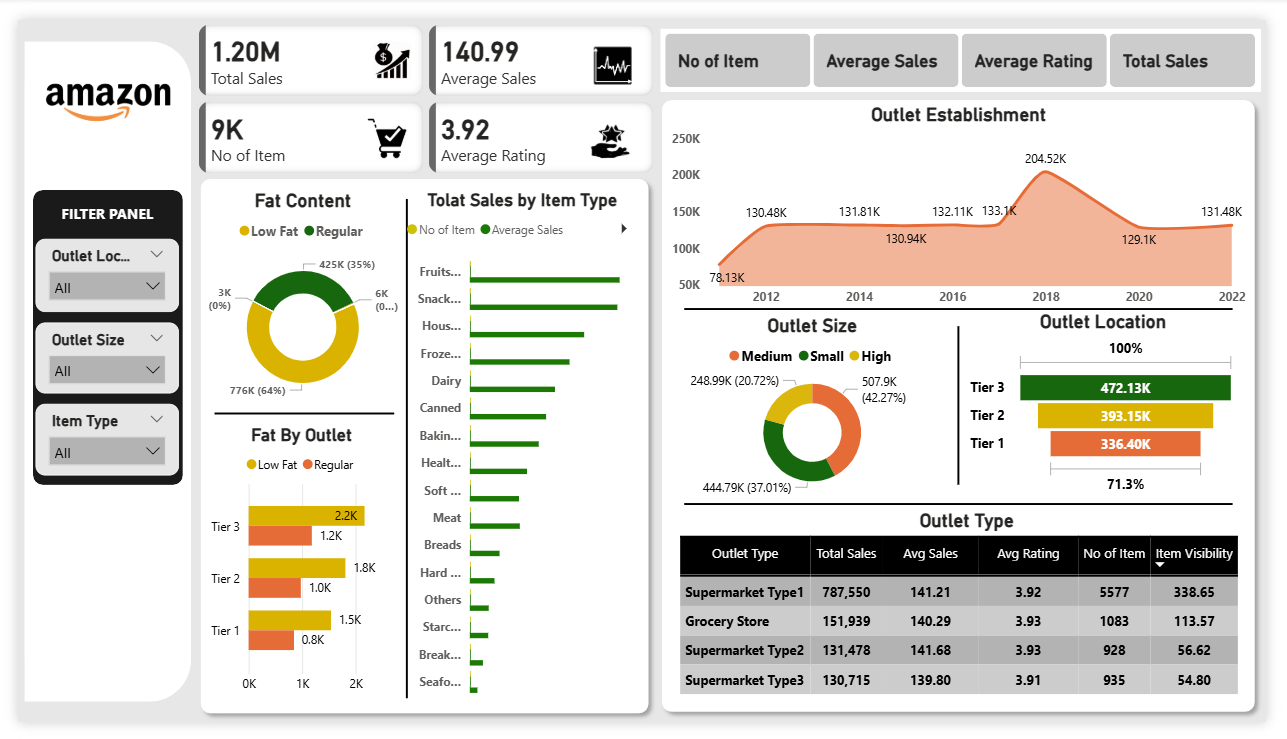

Layout of this report page (visuals, bound fields, positions):
{"tool":"powerbi","page":{"name":"Page 1","canvas":[1280,720],"ordinal":0},"visuals":[{"type":"shape","box":[6.2,21.2,171.2,677.5],"z":0},{"type":"image","box":[3.8,28.8,177.5,105],"z":1000},{"type":"shape","box":[15,173.8,153.8,302.5],"z":2000},{"type":"slicer","fields":{"Values":["BlinkIT Grocery Data.Item Type"]},"box":[17.5,393.8,147.5,73.8],"z":3000},{"type":"slicer","fields":{"Values":["BlinkIT Grocery Data.Outlet Size"]},"box":[17.5,310,147.5,72.5],"z":4000},{"type":"slicer","fields":{"Values":["BlinkIT Grocery Data.Outlet Location Type"]},"box":[17.5,223.8,147.5,75],"z":5000},{"type":"cardVisual","fields":{"Data":["BlinkIT Grocery Data.Total Sales","BlinkIT Grocery Data.Average Sales","BlinkIT Grocery Data.No of Item","BlinkIT Grocery Data.Average Rating"]},"box":[181.2,0,477.5,162.5],"z":6000},{"type":"shape","box":[178.8,153.8,477.5,566.2],"z":7000},{"type":"advancedSlicerVisual","fields":{"Values":["Materix.Materix"]},"box":[658.8,8.8,616.2,65],"z":8000},{"type":"donutChart","title":"Fat Content","fields":{"Y":["BlinkIT Grocery Data.No of Item","BlinkIT Grocery Data.Average Sales","BlinkIT Grocery Data.Average Rating","BlinkIT Grocery Data.Total Sales"],"Category":["BlinkIT Grocery Data.Item Fat Content"]},"box":[191.2,173.8,202.5,230],"z":9000},{"type":"clusteredBarChart","title":"Fat By Outlet","fields":{"Y":["BlinkIT Grocery Data.No of Item"],"Category":["BlinkIT Grocery Data.Outlet Location Type"],"Series":["BlinkIT Grocery Data.Item Fat Content"]},"box":[190,415,202.5,283.8],"z":10000},{"type":"shape","box":[201.2,393.8,185,20],"z":11000},{"type":"shape","box":[378.8,183.8,41.2,512.5],"z":12000},{"type":"clusteredBarChart","title":"Tolat Sales by Item Type","fields":{"Y":["BlinkIT Grocery Data.No of Item","BlinkIT Grocery Data.Average Sales","BlinkIT Grocery Data.Average Rating","BlinkIT Grocery Data.Total Sales"],"Category":["BlinkIT Grocery Data.Item Type"]},"box":[393.8,173.8,247.5,532.5],"z":13000},{"type":"shape","box":[651.5,73.6,626.1,645.4],"z":14000},{"type":"donutChart","title":"Outlet Size","fields":{"Category":["BlinkIT Grocery Data.Outlet Size"],"Y":["BlinkIT Grocery Data.Total Sales"]},"box":[665,302.5,298.8,190],"z":15000},{"type":"funnel","title":"Outlet Location","fields":{"Category":["BlinkIT Grocery Data.Outlet Location Type"],"Y":["BlinkIT Grocery Data.Total Sales"]},"box":[971.2,299.2,282.3,193],"z":16000},{"type":"lineChart","title":"Outlet Establishment","fields":{"Category":["BlinkIT Grocery Data.Outlet Establishment Year"],"Y":["BlinkIT Grocery Data.Total Sales"]},"box":[665,86.2,598.8,216.2],"z":17000},{"type":"shape","box":[683.8,257.5,562.5,77.5],"z":18000},{"type":"shape","box":[955,313.8,18.8,162.5],"z":19000},{"type":"pivotTable","title":"Outlet Type","fields":{"Rows":["BlinkIT Grocery Data.Outlet Type"],"Values":["BlinkIT Grocery Data.Total Sales","BlinkIT Grocery Data.Average Sales","BlinkIT Grocery Data.Average Rating","BlinkIT Grocery Data.No of Item","Sum(BlinkIT Grocery Data.Item Visibility)"]},"box":[673.8,502.5,597.5,196.2],"z":20000},{"type":"shape","box":[683.8,457.5,562.5,77.5],"z":21000},{"type":"textbox","box":[17.5,183.8,147.5,30],"z":22000},{"type":"actionButton","box":[124.3,123.1,43.4,39.8],"z":22001}]}

Visuals, with their boxes in screenshot pixels (x1, y1, x2, y2), scaled from the page's 1280x720 canvas onto the 1287x739 screenshot:
shape: region(6, 22, 178, 717)
image: region(4, 30, 182, 137)
shape: region(15, 178, 170, 489)
slicer - BlinkIT Grocery Data.Item Type: region(18, 404, 166, 480)
slicer - BlinkIT Grocery Data.Outlet Size: region(18, 318, 166, 393)
slicer - BlinkIT Grocery Data.Outlet Location Type: region(18, 230, 166, 307)
cardVisual - BlinkIT Grocery Data.Total Sales x BlinkIT Grocery Data.Average Sales: region(182, 0, 662, 167)
shape: region(180, 158, 660, 738)
advancedSlicerVisual - Materix.Materix: region(662, 9, 1282, 76)
"Fat Content" donutChart: region(192, 178, 396, 414)
"Fat By Outlet" clusteredBarChart: region(191, 426, 395, 717)
shape: region(202, 404, 388, 425)
shape: region(381, 189, 422, 715)
"Tolat Sales by Item Type" clusteredBarChart: region(396, 178, 645, 725)
shape: region(655, 76, 1285, 738)
"Outlet Size" donutChart: region(669, 310, 969, 505)
"Outlet Location" funnel: region(977, 307, 1260, 505)
"Outlet Establishment" lineChart: region(669, 88, 1271, 310)
shape: region(688, 264, 1253, 344)
shape: region(960, 322, 979, 489)
"Outlet Type" pivotTable: region(677, 516, 1278, 717)
shape: region(688, 470, 1253, 549)
textbox: region(18, 189, 166, 219)
actionButton: region(125, 126, 169, 167)
